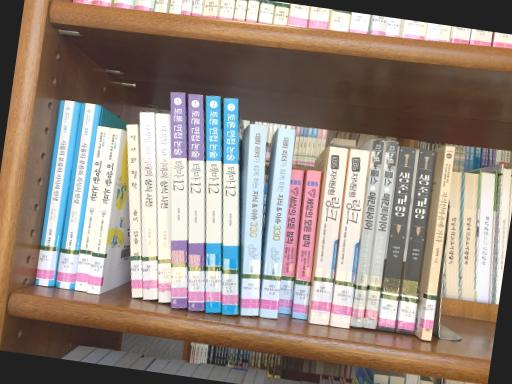book-spine: (34, 100, 81, 287), (56, 102, 102, 289), (396, 148, 436, 335), (330, 148, 370, 328), (378, 146, 416, 332), (309, 146, 348, 325), (260, 128, 296, 319), (364, 141, 399, 329), (422, 145, 455, 340), (351, 139, 385, 328), (74, 125, 109, 292), (87, 128, 122, 294), (241, 124, 267, 316), (292, 170, 322, 319), (278, 168, 305, 314), (188, 94, 205, 311), (222, 98, 239, 314), (170, 92, 187, 307), (205, 96, 221, 313), (140, 111, 158, 300), (156, 113, 171, 303), (127, 123, 143, 298)
